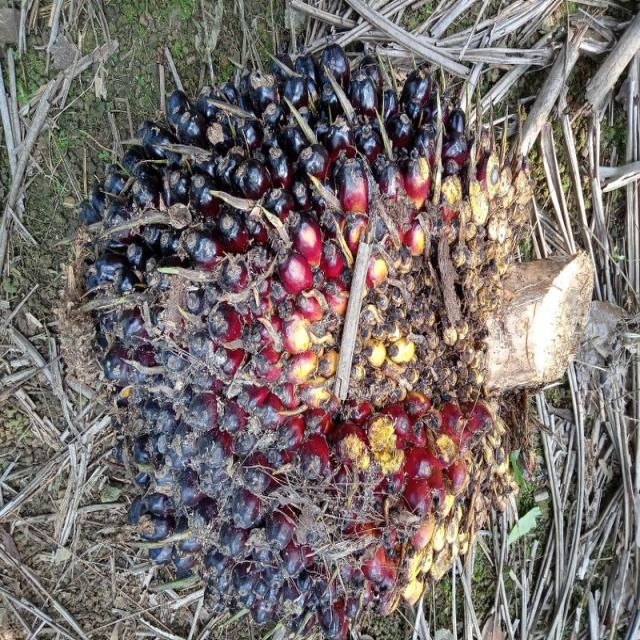fraksi 00: (43, 18, 579, 640)
